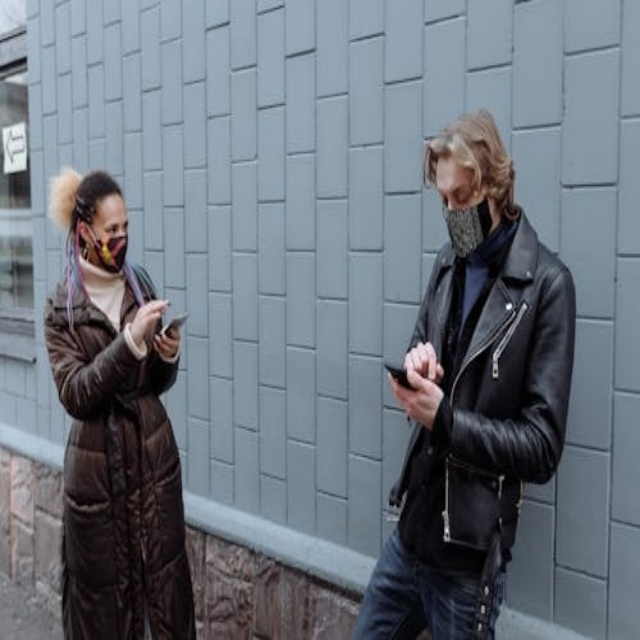Mascara: (81, 221, 128, 274), (441, 201, 484, 258)
Sin_gafas: (433, 181, 468, 208), (95, 211, 129, 236)
Sin_guantes: (383, 369, 442, 427), (128, 294, 164, 344), (399, 342, 440, 384), (154, 321, 180, 361)
